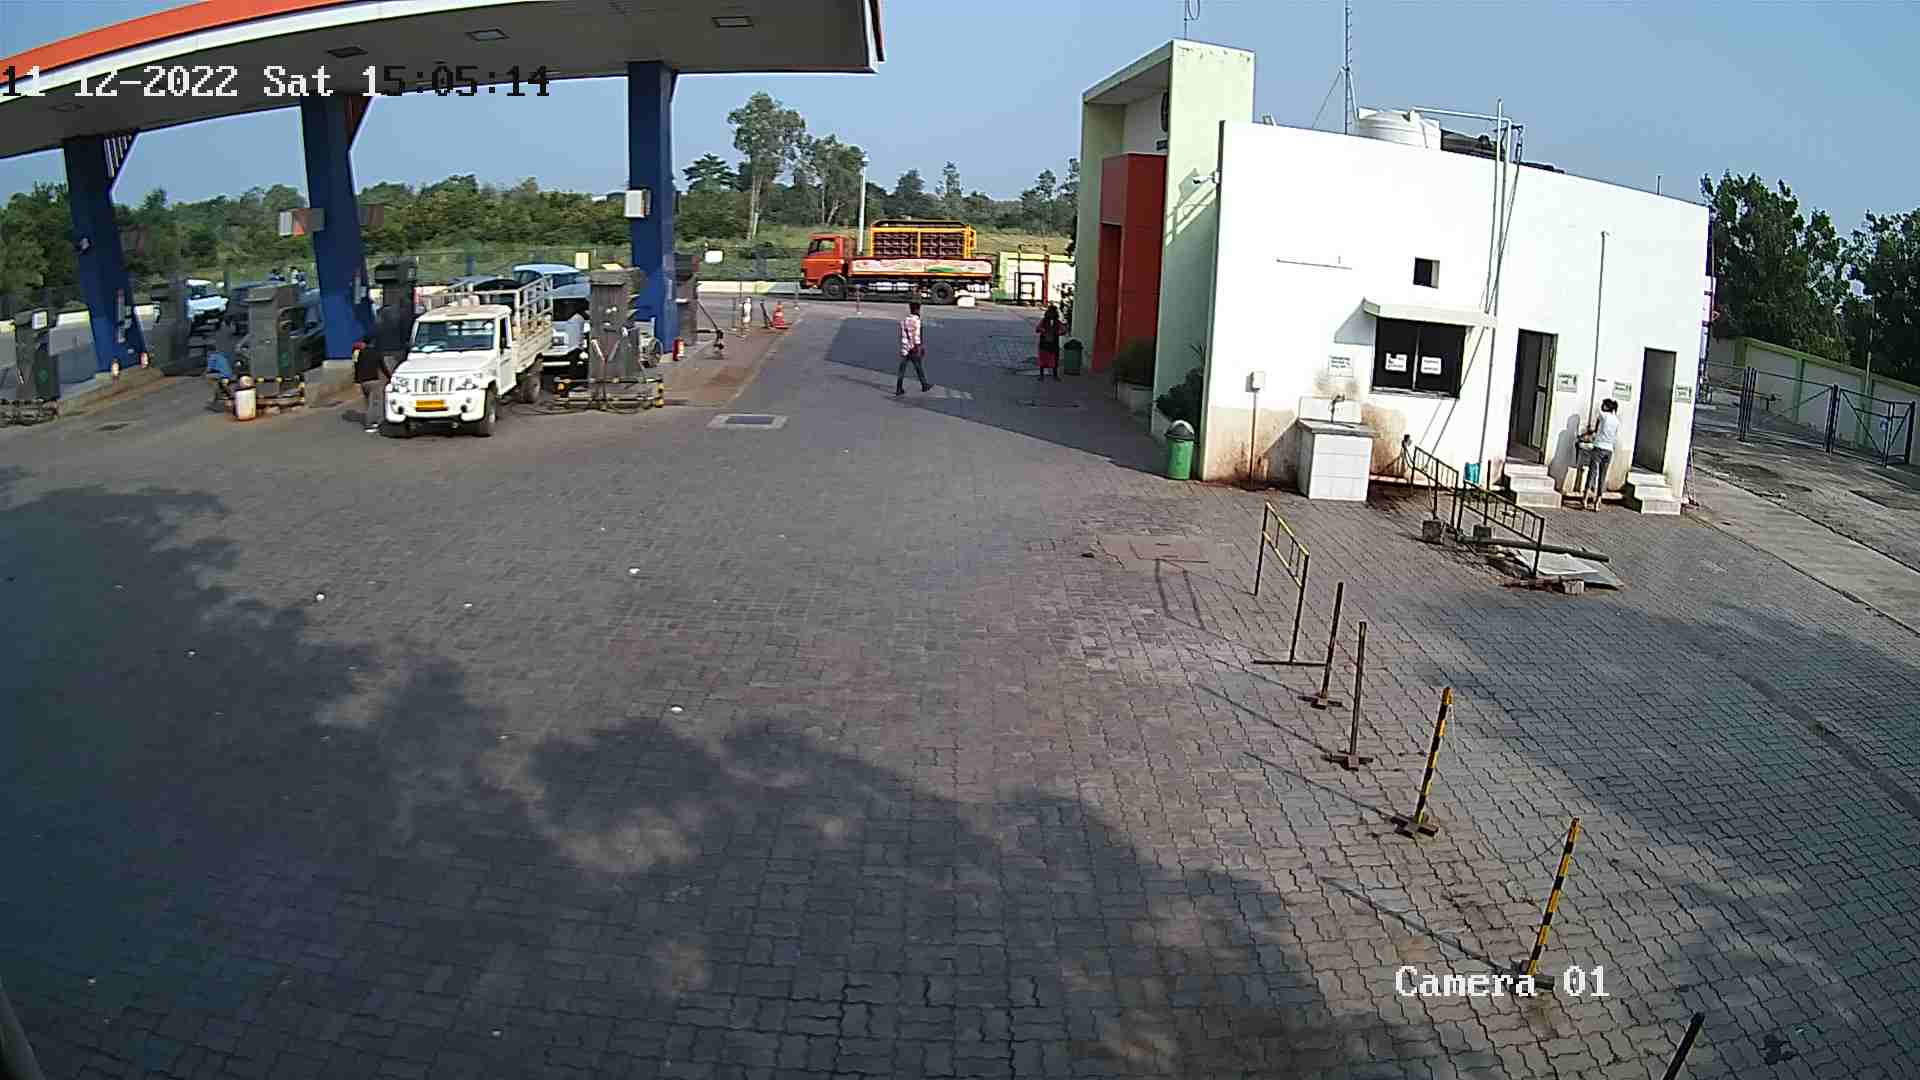Car: (365, 266, 560, 443), (530, 266, 593, 386), (272, 278, 328, 382), (211, 276, 266, 342), (502, 253, 578, 299), (179, 272, 229, 340)
HMV: (798, 206, 1004, 314)
